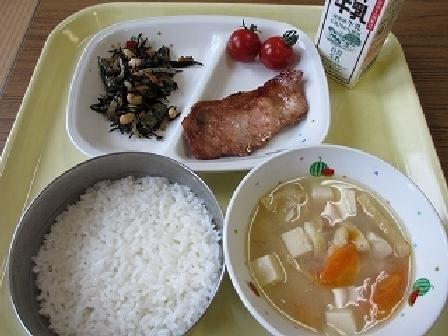Cherry tomatoes: (210, 15, 300, 70)
Milk: (310, 0, 398, 79)
Rice: (20, 157, 224, 335)
Soups: (215, 155, 447, 333)
cooked food based on meat: (181, 69, 319, 158)
salad with sauce: (78, 39, 188, 135)
